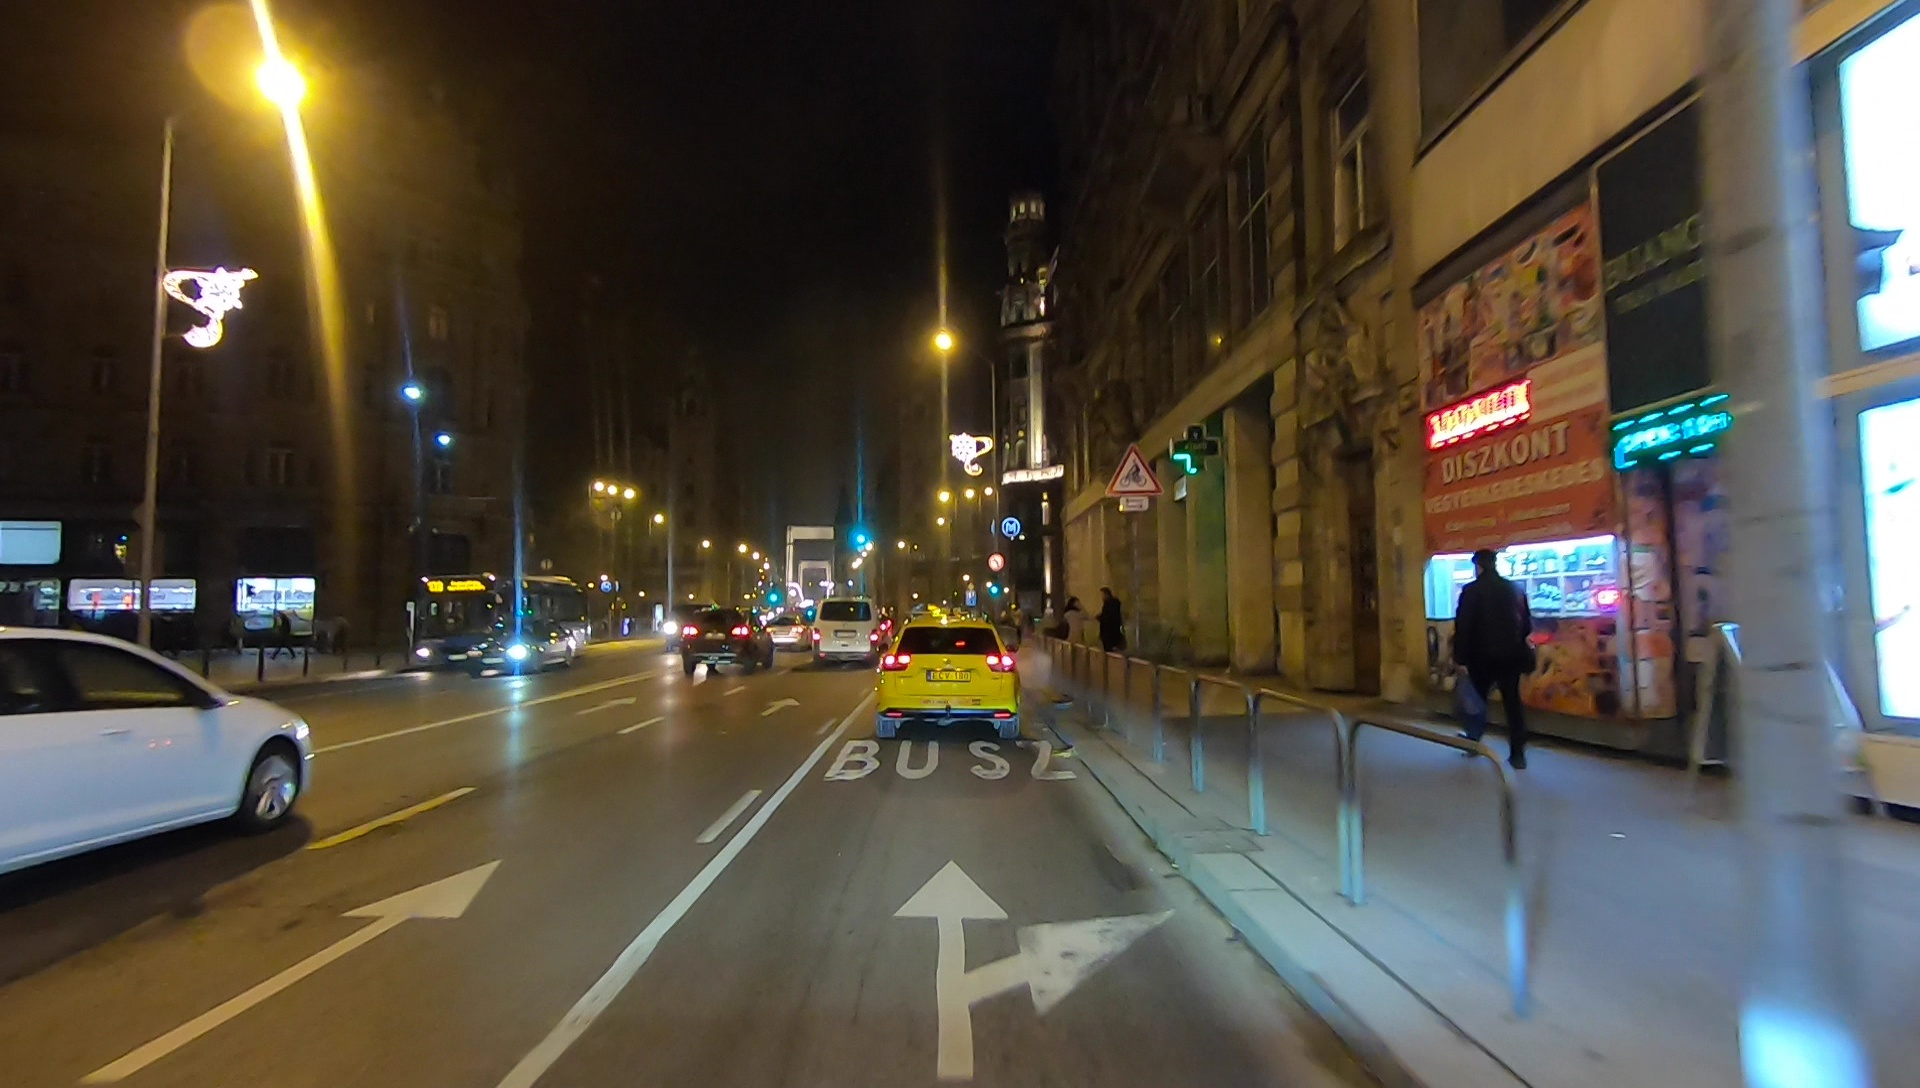person: (1447, 554, 1541, 771), (1093, 589, 1123, 667), (1063, 594, 1087, 670), (268, 611, 298, 662), (1011, 601, 1024, 643)
